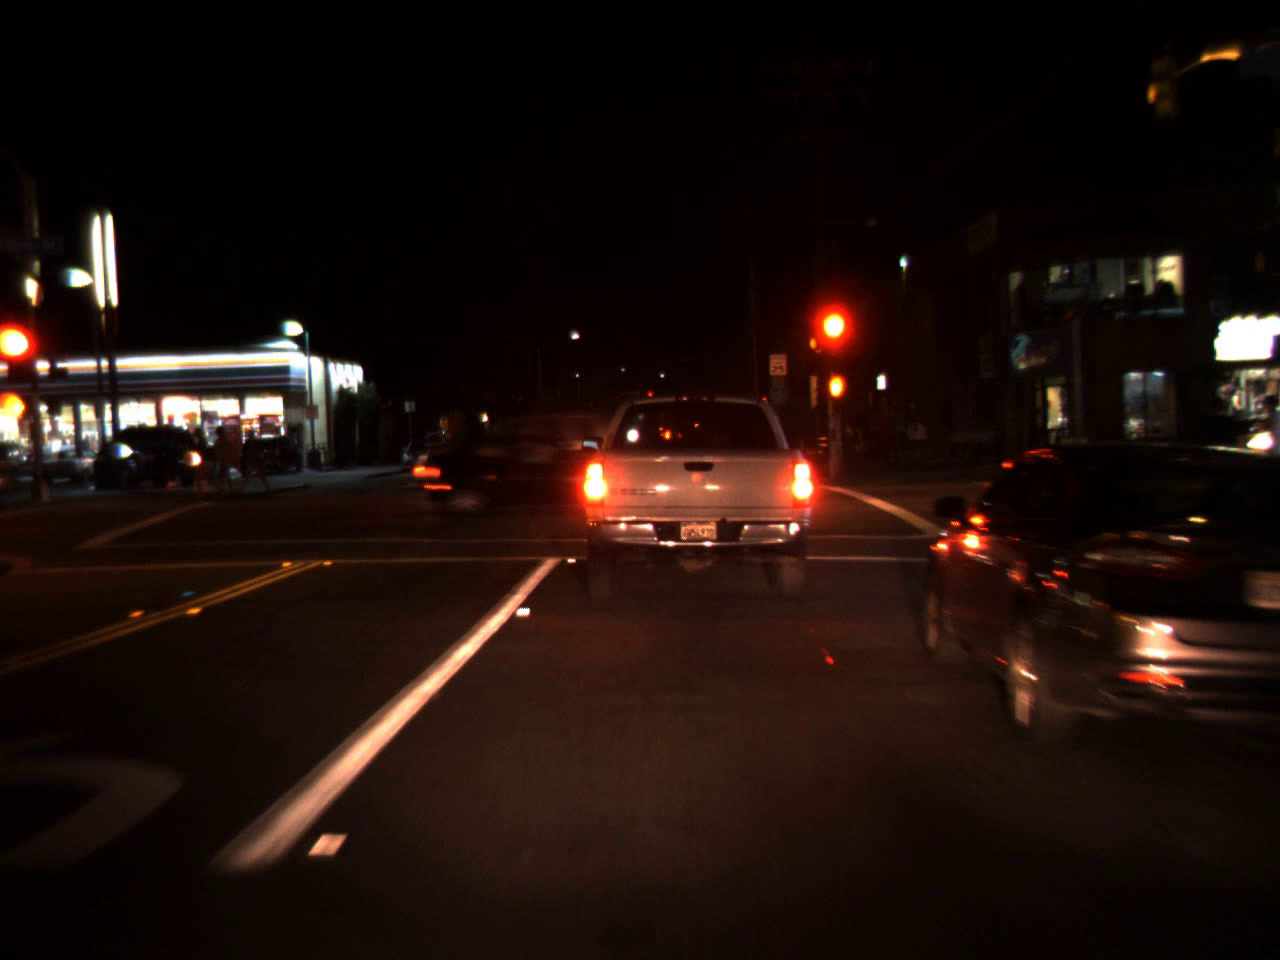stop: (813, 307, 847, 374), (0, 322, 26, 386), (647, 391, 653, 401)
